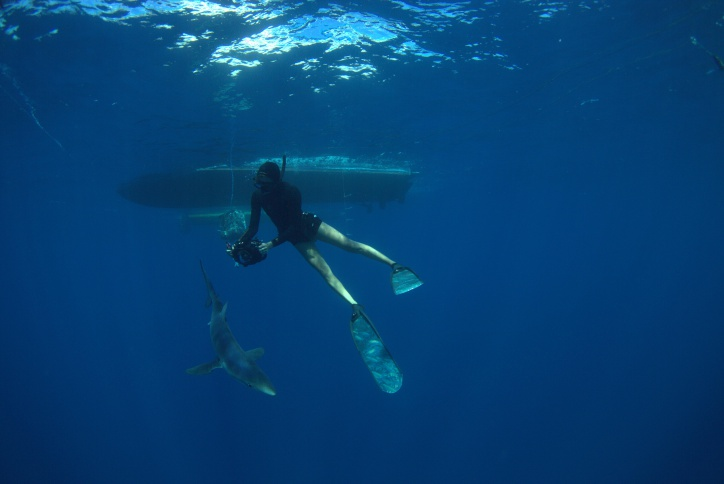Azul: (175, 260, 296, 400)
